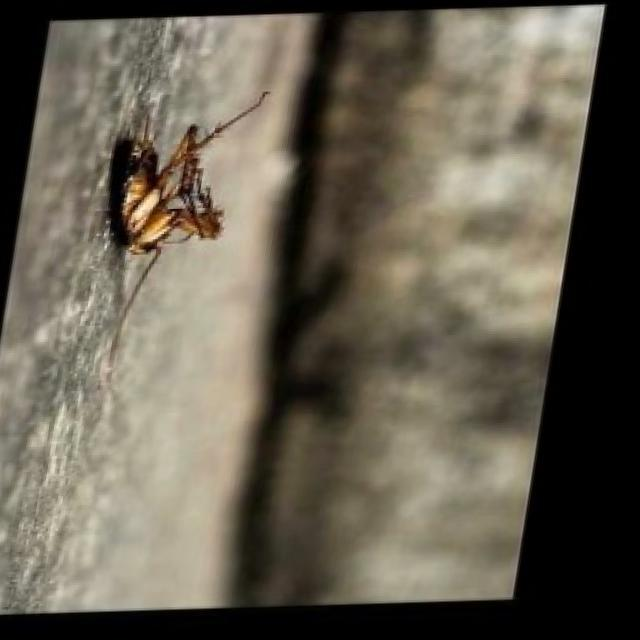cockroach: (93, 84, 275, 389)
